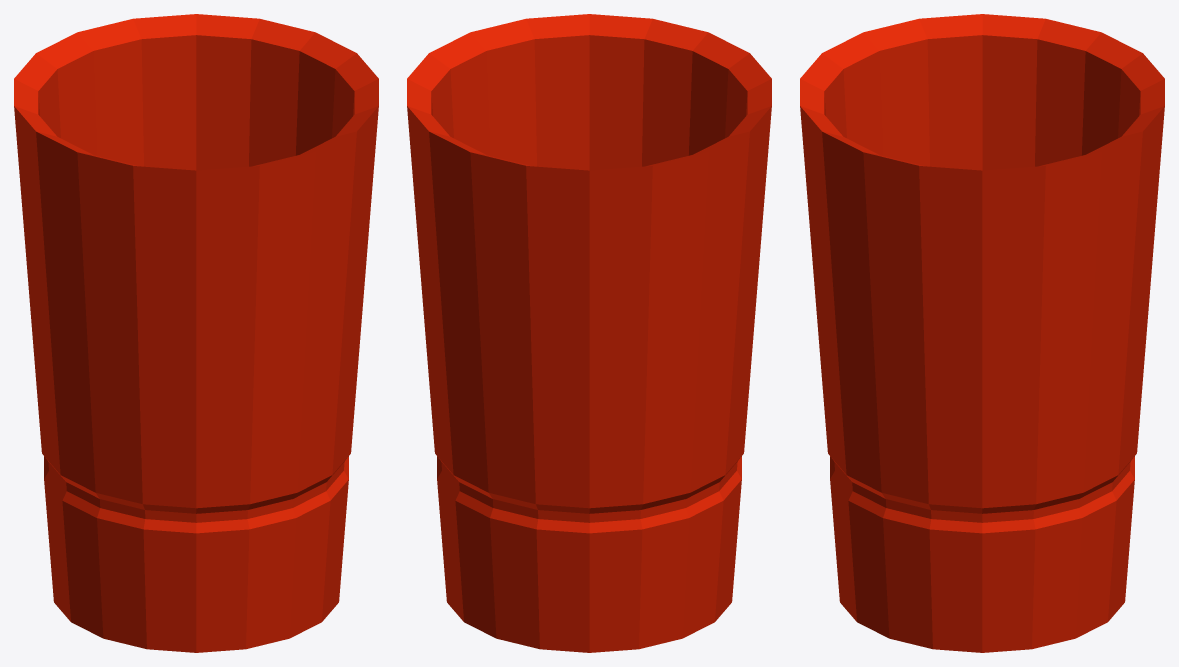
The model's file is umgebung_becher_low.FBX.
3 views of the same model, side by side, from view 1: azimuth 30°, elevation 25°; view 2: azimuth 150°, elevation 25°; view 3: azimuth 270°, elevation 25° (orthographic).
Visible parts, largest first — view 1: o_becher_1_low; view 2: o_becher_1_low; view 3: o_becher_1_low.
Part boxes in pixels (x1=…): o_becher_1_low: x1=14, y1=14, x2=378, y2=652; o_becher_1_low: x1=407, y1=14, x2=771, y2=652; o_becher_1_low: x1=800, y1=14, x2=1164, y2=652.
Size of the model in its own units: 11.21 by 11.04 by 16.67.
